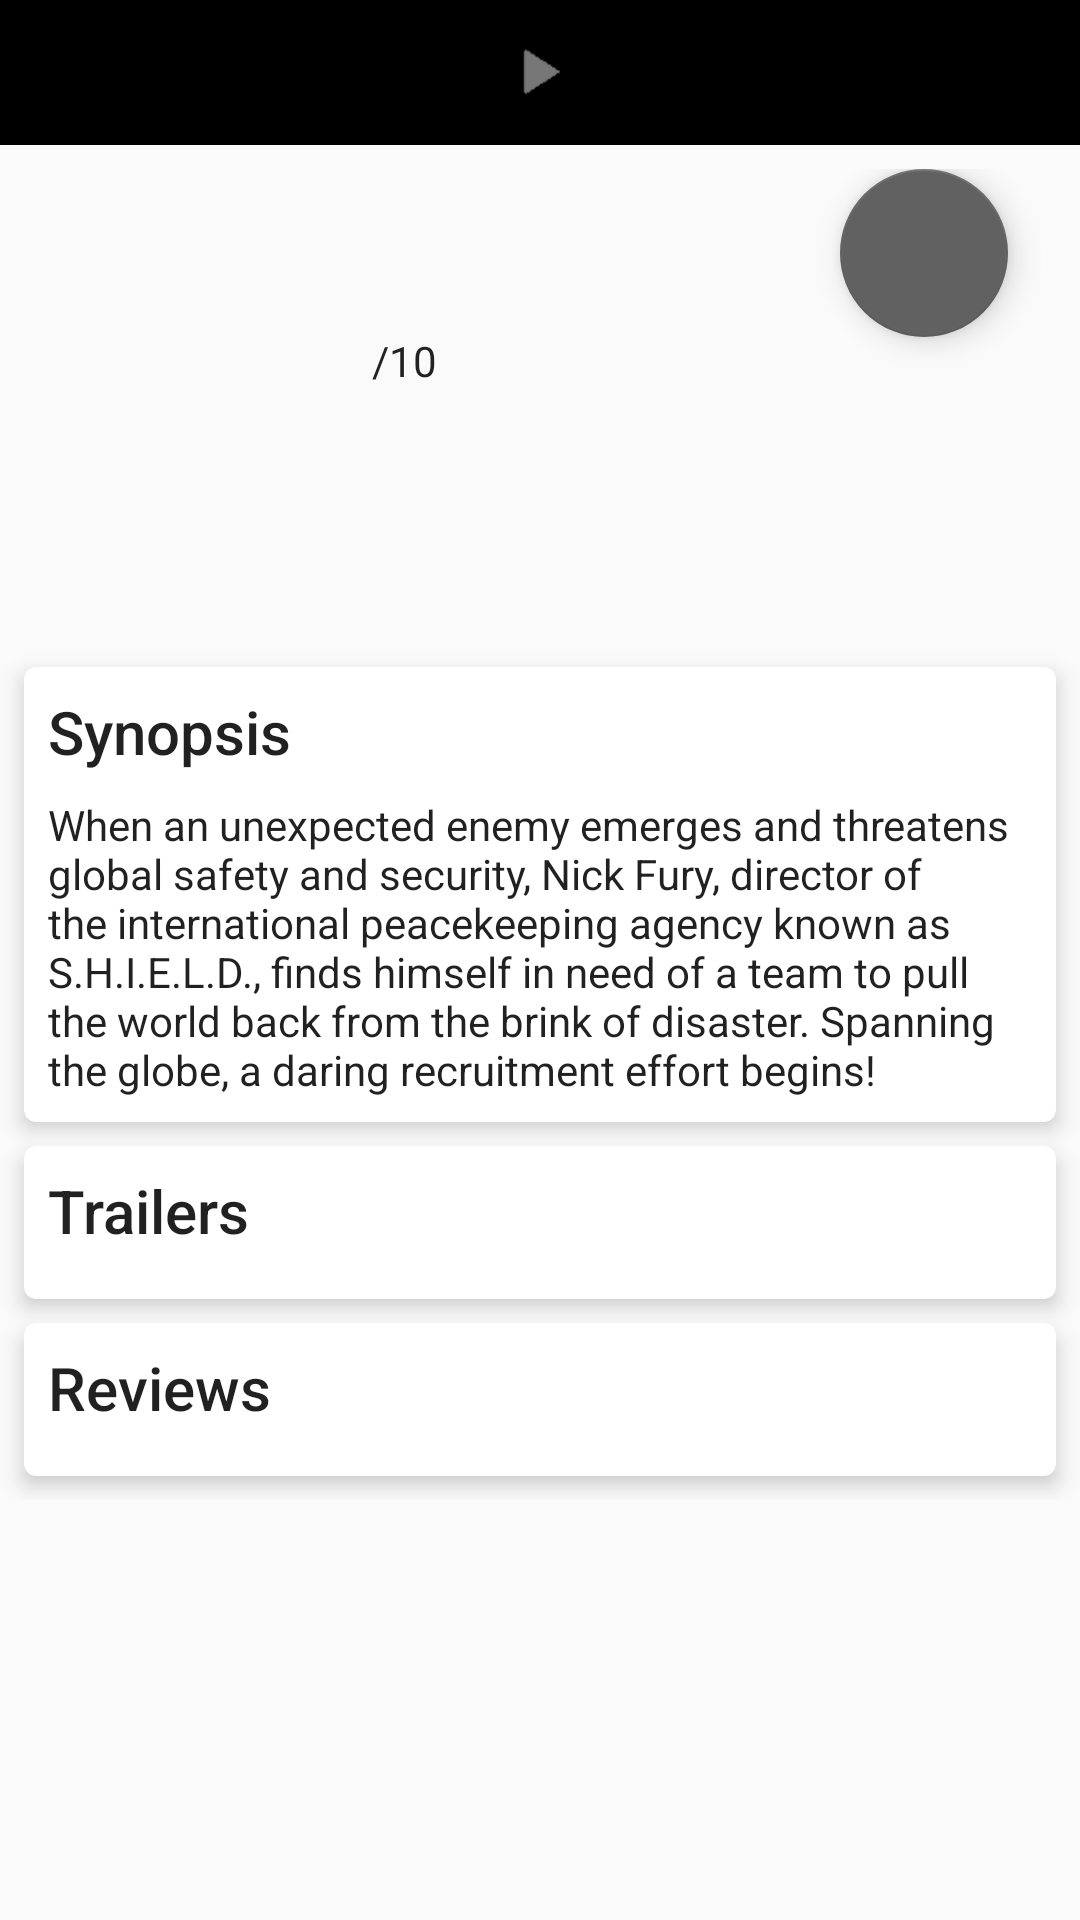

Icon bounding boxes for this 1080px x 1920px phone screenshot, format (x1, y1, x2, y2):
play: (523, 49, 560, 94)
